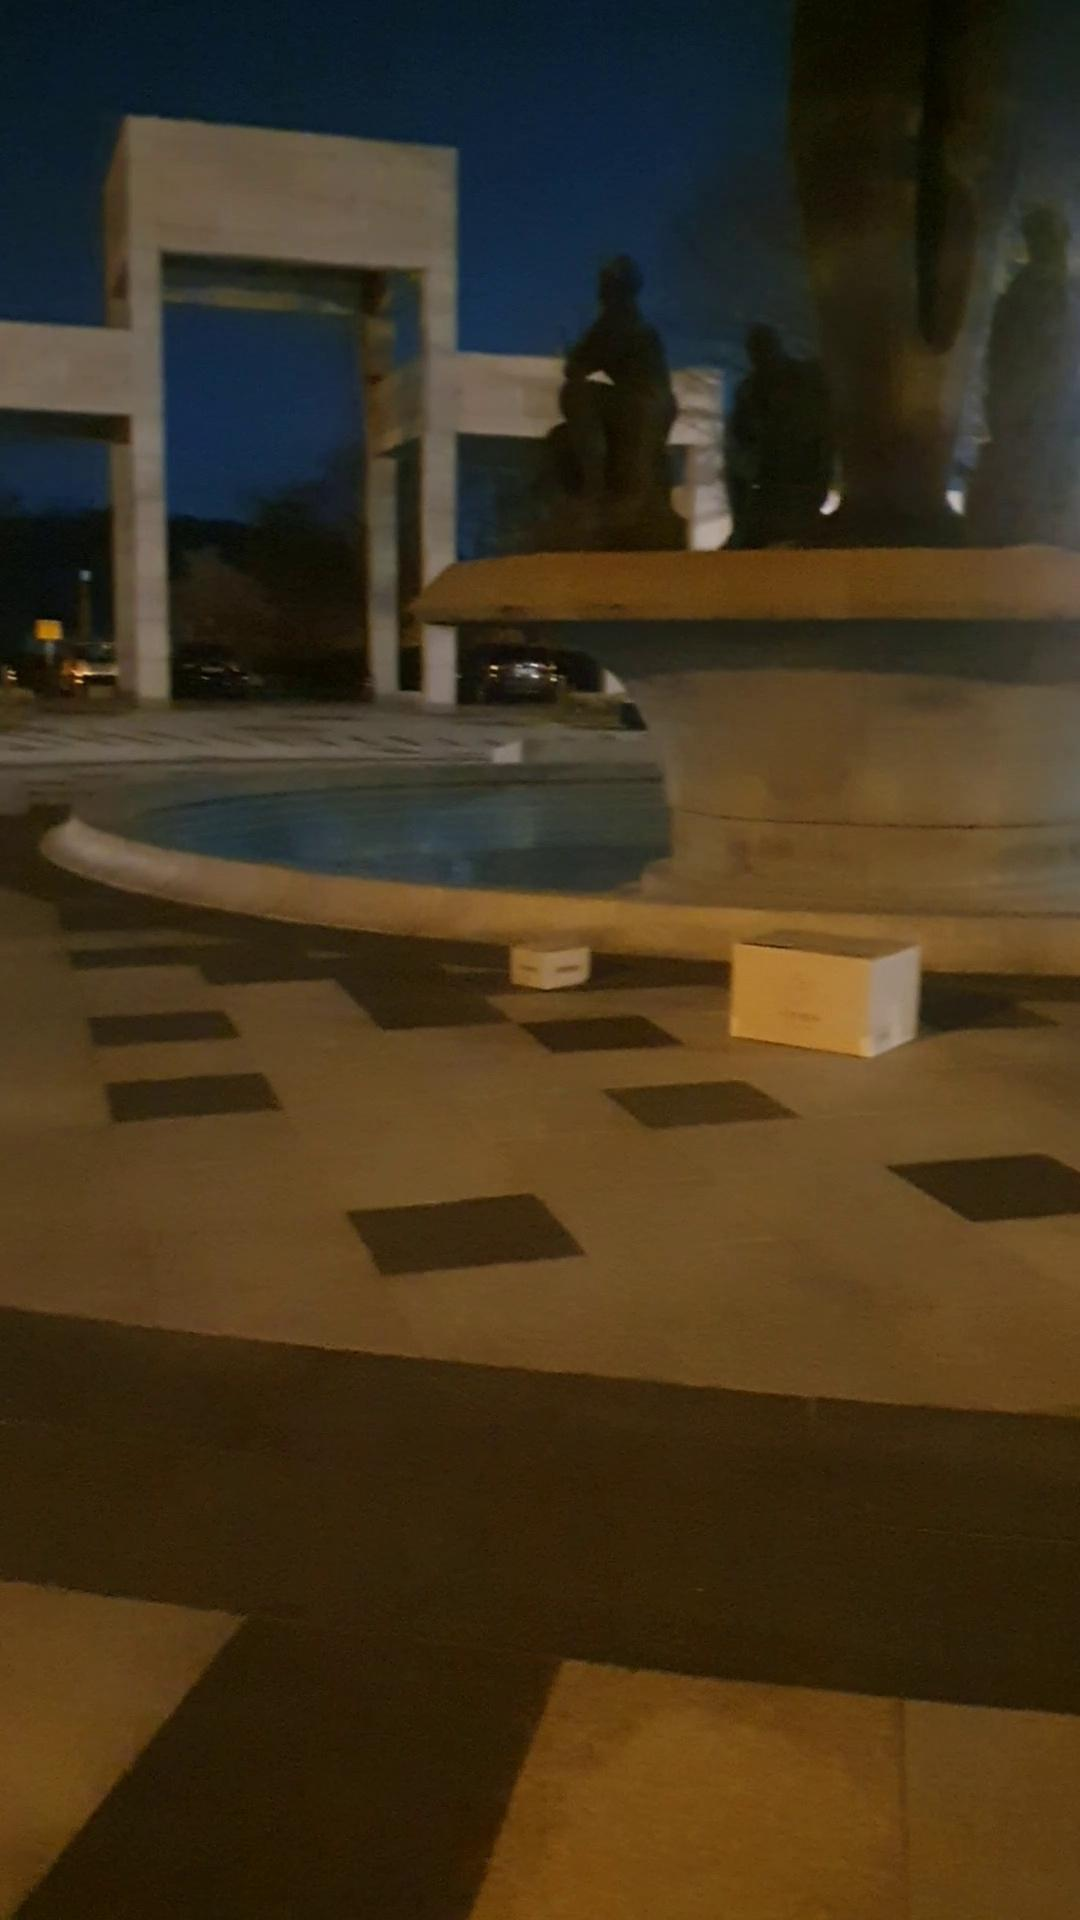Box: (723, 923, 932, 1065), (493, 905, 607, 1015)
